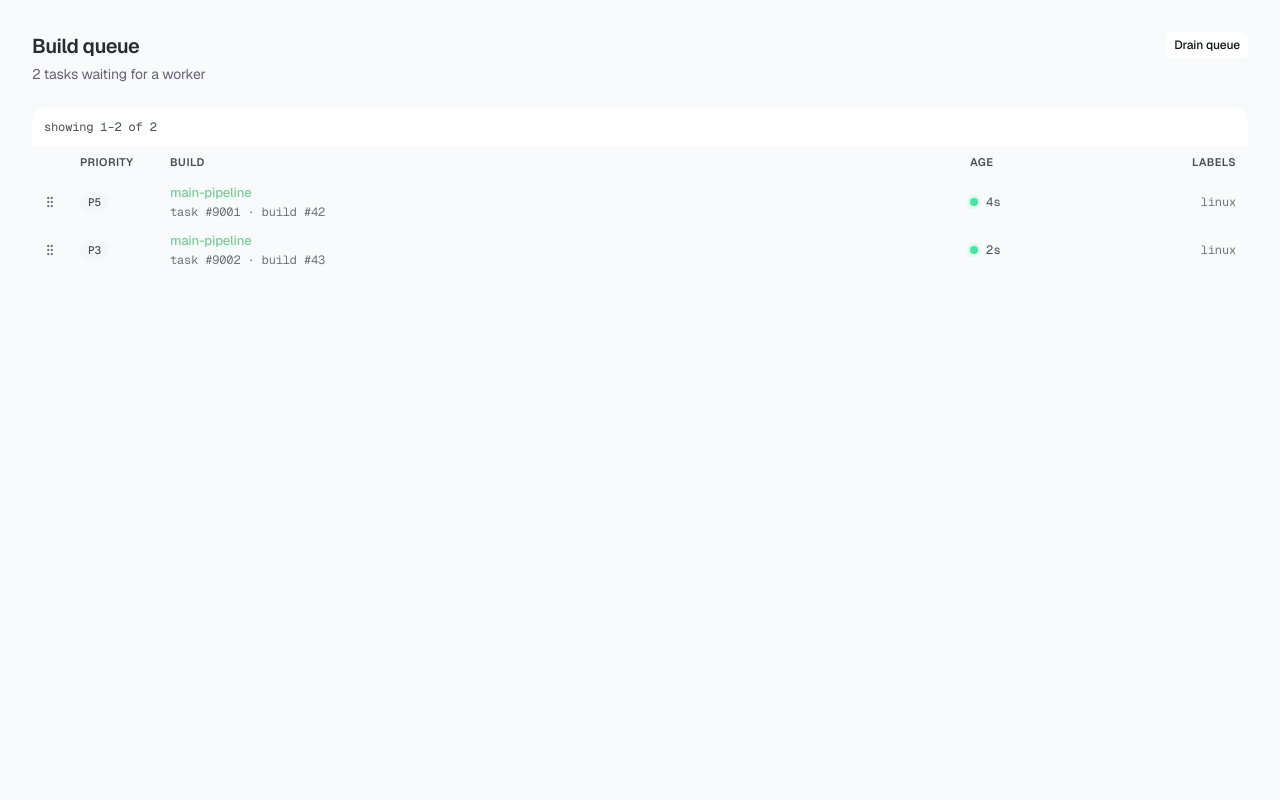
Queue page — themed Drain confirm dialog (#1040) › clicking Cancel closes the dialog without draining
Click the button "Drain queue": (1207, 45) [1166,32,1248,58]
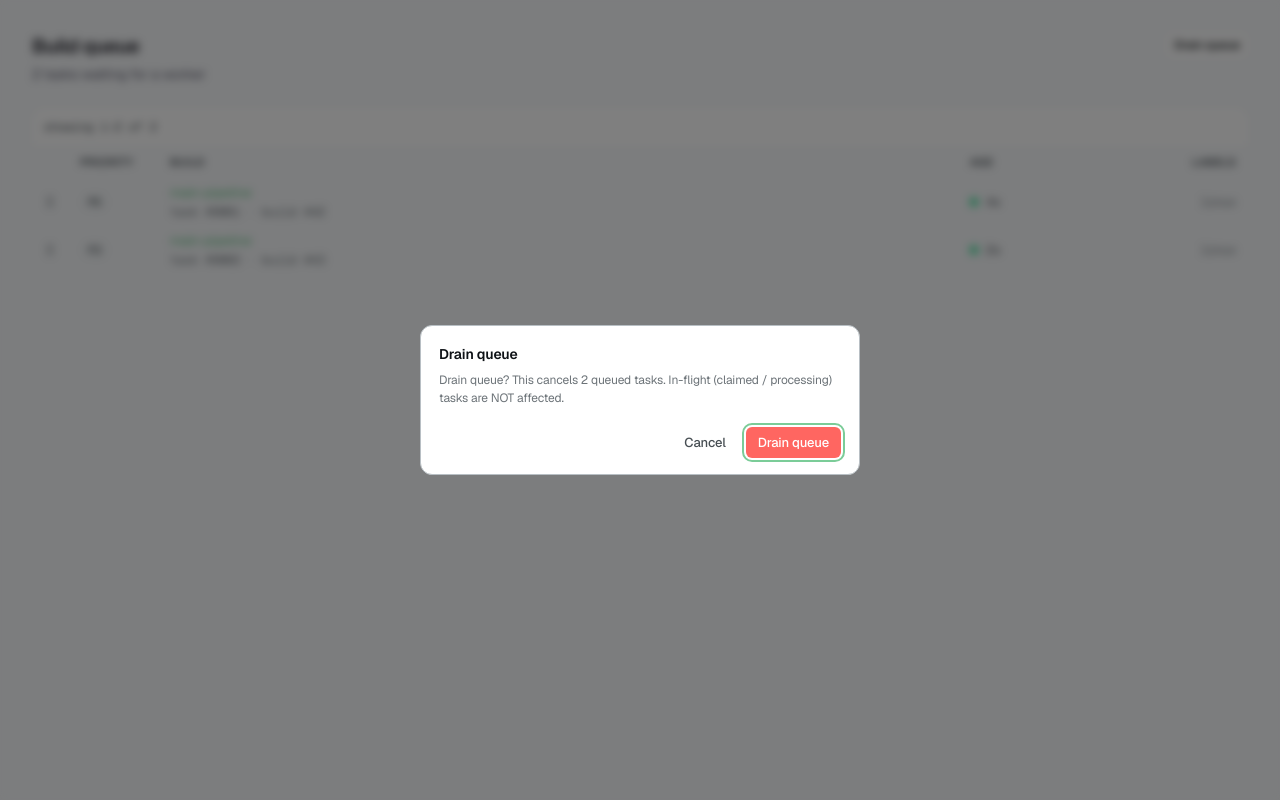
Check: the dialog with test id "drain-queue-dialog" is shown, box [420,325,860,475]
Click the button with test id "drain-queue-dialog-cancel": (705, 443) [672,427,738,458]
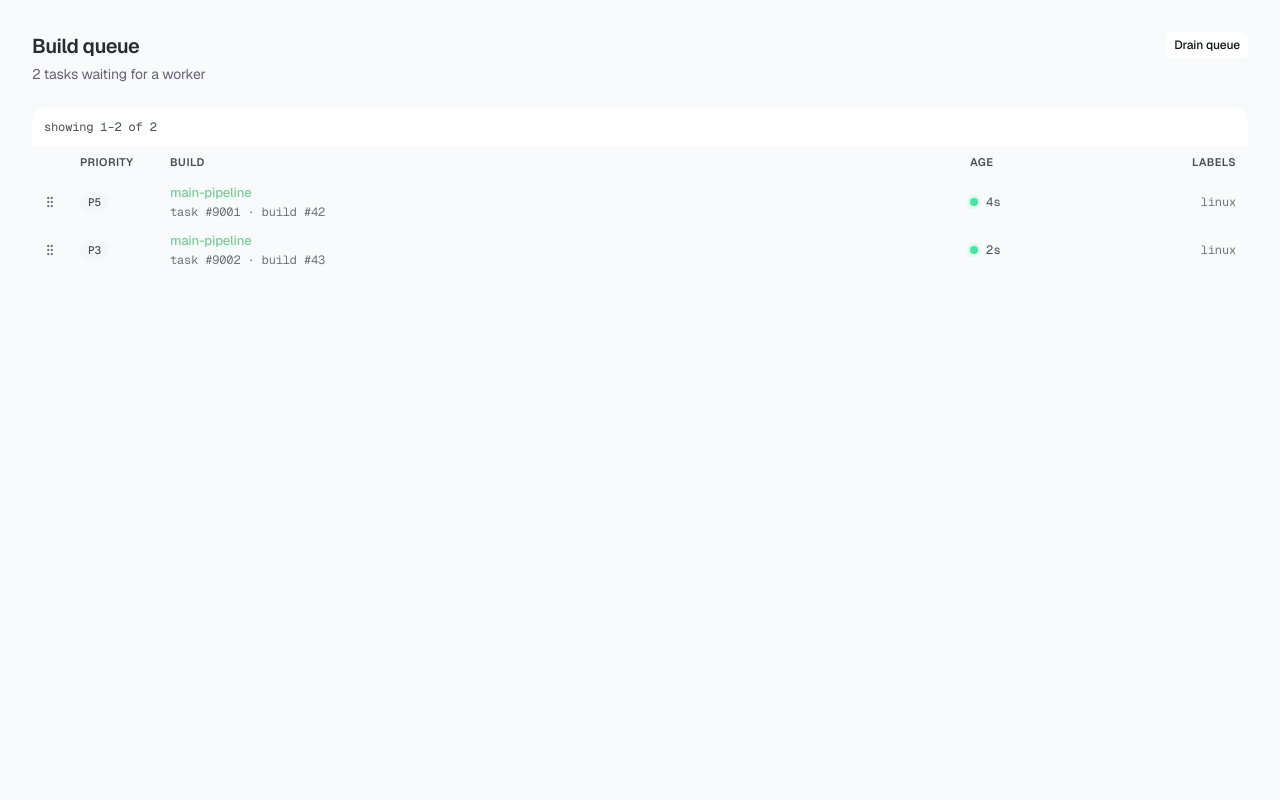
Check: the dialog with test id "drain-queue-dialog" is gone
